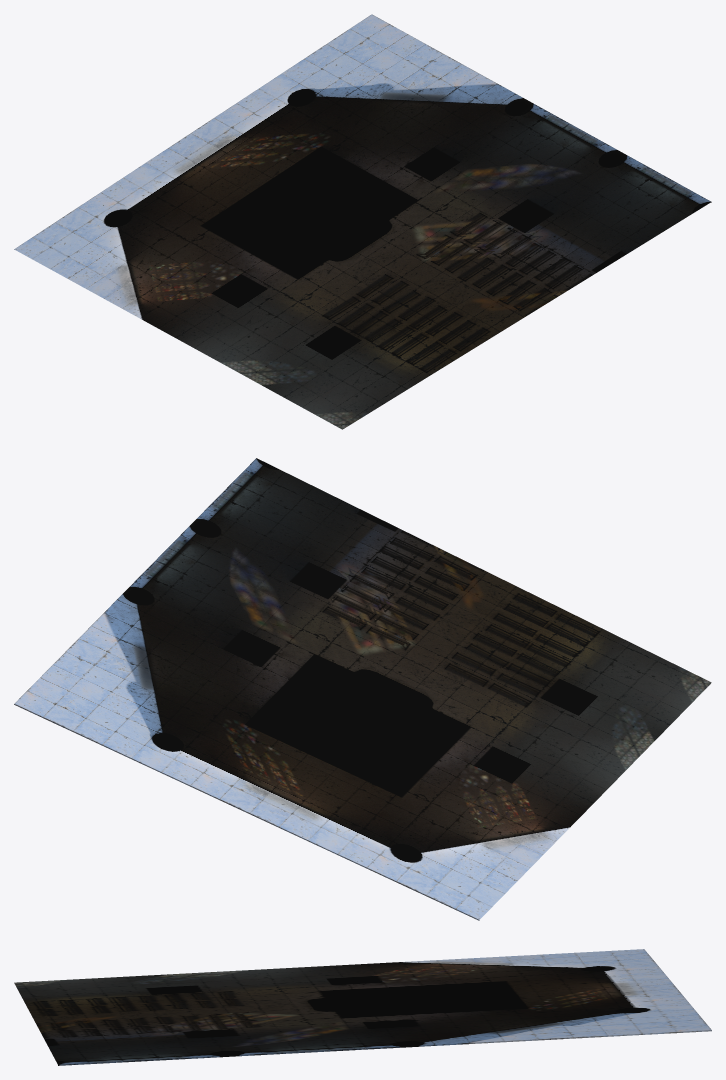
File: Flooring.obj
3 views of the same model, one above another, from view 1: azimuth 30°, elevation 25°; view 2: azimuth 150°, elevation 25°; view 3: azimuth 270°, elevation 25° (orthographic). The views are drawn at different scales.
Visible parts, largest first — view 1: Circle.051_0; view 2: Circle.051_0; view 3: Circle.051_0.
Part boxes in pixels (left/top/right/bottom): Circle.051_0: left=14, top=14, right=711, bottom=429; Circle.051_0: left=14, top=458, right=711, bottom=920; Circle.051_0: left=14, top=949, right=711, bottom=1065.
Size of the model in its own units: 23.28 by 6.02 by 26.67.
